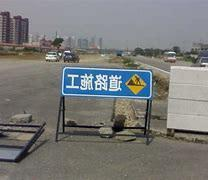sign: (62, 66, 153, 99)
